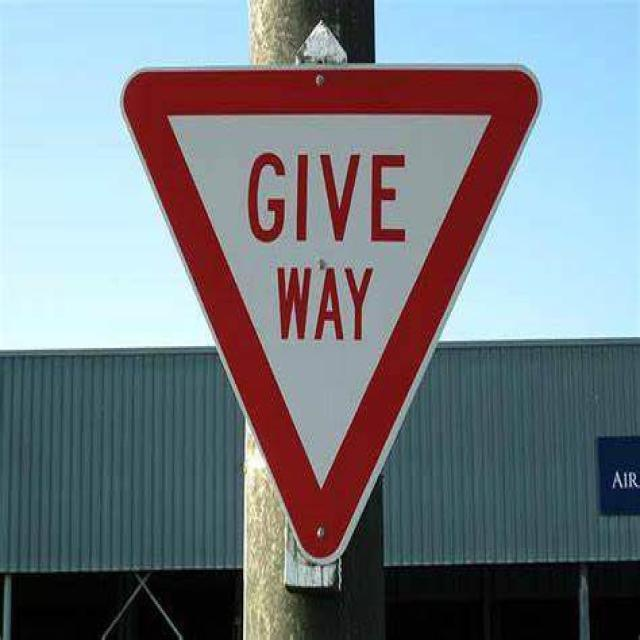give way: (118, 62, 543, 571)
